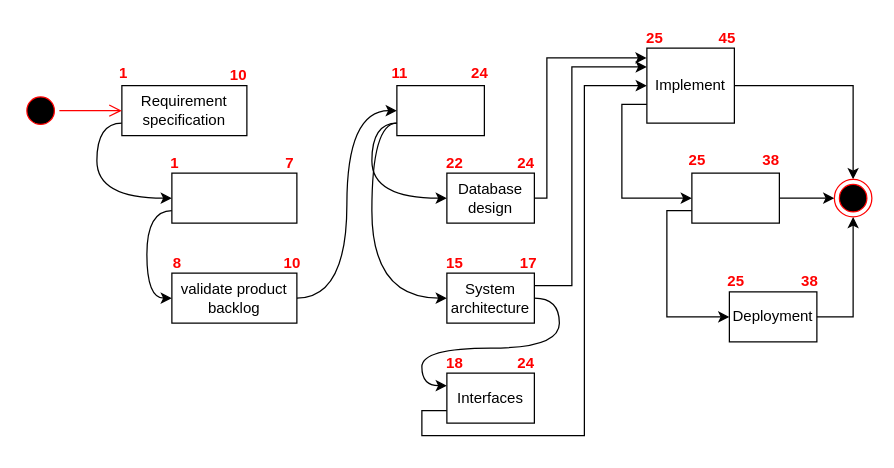
The diagram is 894 pixels wide and 468 high, and some of its shapes have lost their labels. Each missing label, with the centre of its shape:
"list product backlog" belongs at (x=234, y=197).
"System Design" belongs at (x=440, y=110).
"Testing" belongs at (x=735, y=197).
